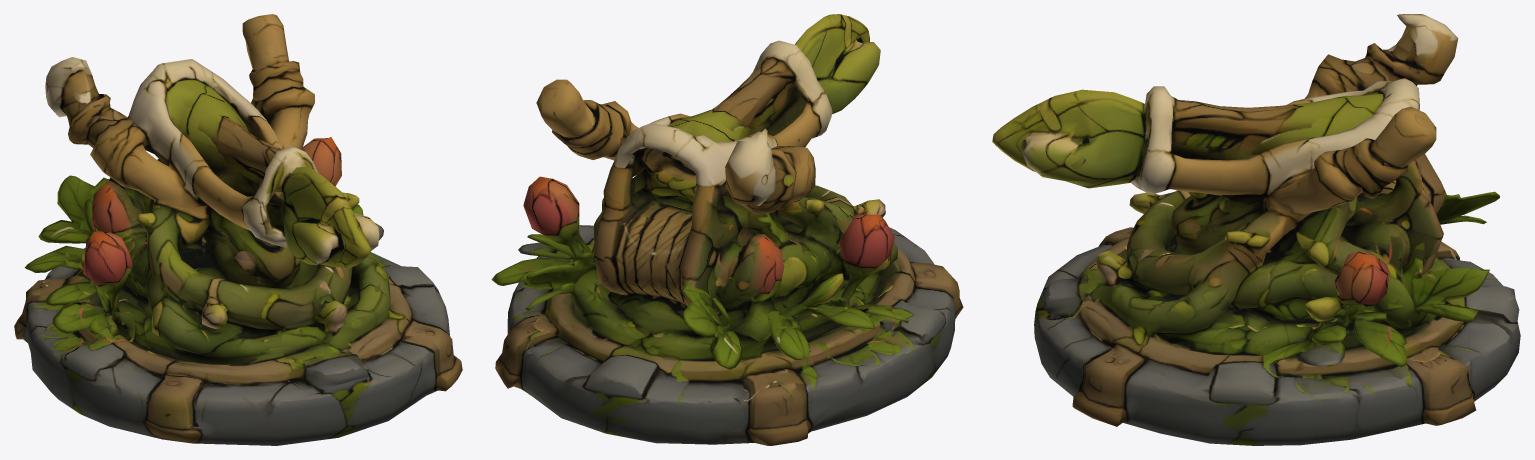
The picture shows the model from 3 angles, left to right: view 1: azimuth 30°, elevation 25°; view 2: azimuth 150°, elevation 25°; view 3: azimuth 270°, elevation 25°; orthographic projection. The views are drawn at different scales.
Parts seen in each view (by area): view 1: tripo_node_f779c2e1; view 2: tripo_node_f779c2e1; view 3: tripo_node_f779c2e1.
Part boxes in pixels (x1,y1,x2,y2): tripo_node_f779c2e1: (14,14,462,445); tripo_node_f779c2e1: (491,14,963,445); tripo_node_f779c2e1: (992,14,1520,445).
Bounding box in the file's own units: 0.8159 × 0.6087 × 0.9692.
